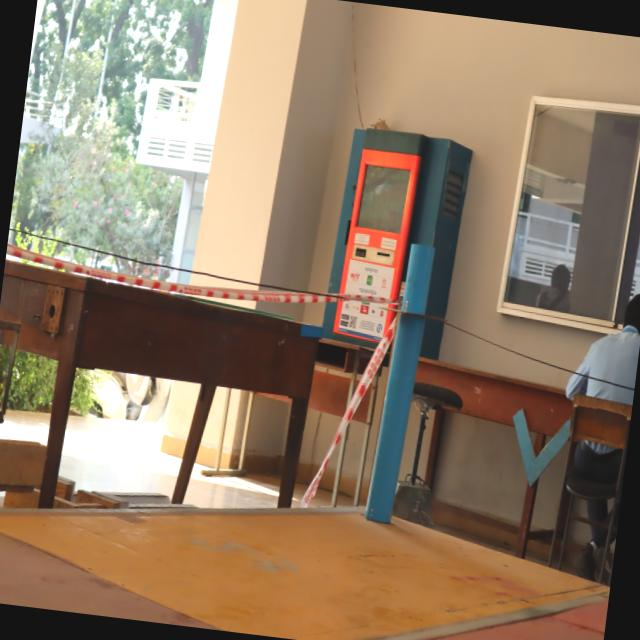pole: (368, 232, 462, 396)
